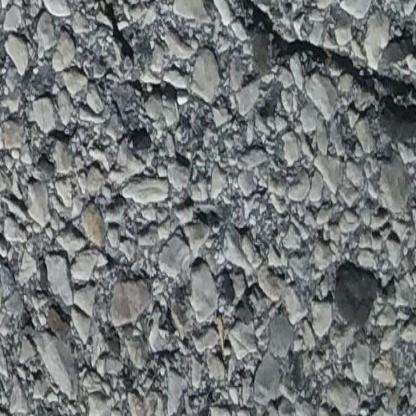Cracks: (81, 0, 136, 59)
